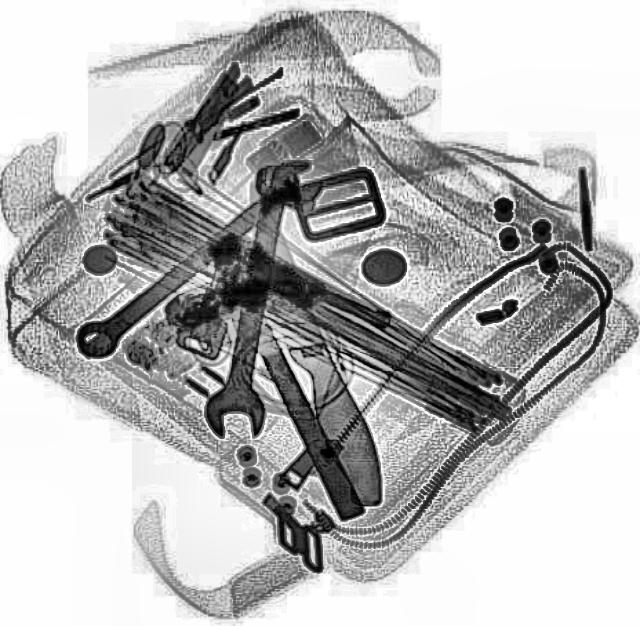Gun: (158, 218, 392, 406)
Knife: (224, 174, 392, 512), (201, 230, 363, 520)
Wrench: (62, 154, 332, 366), (198, 161, 306, 439)
